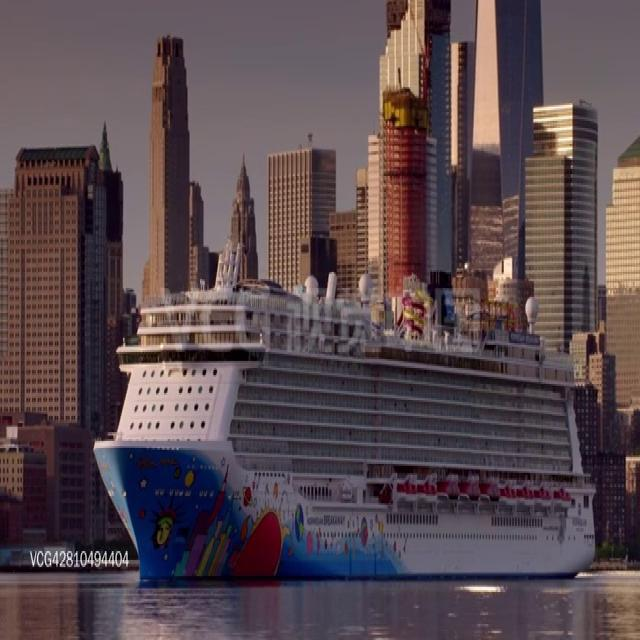passenger ship: (90, 262, 596, 586)
